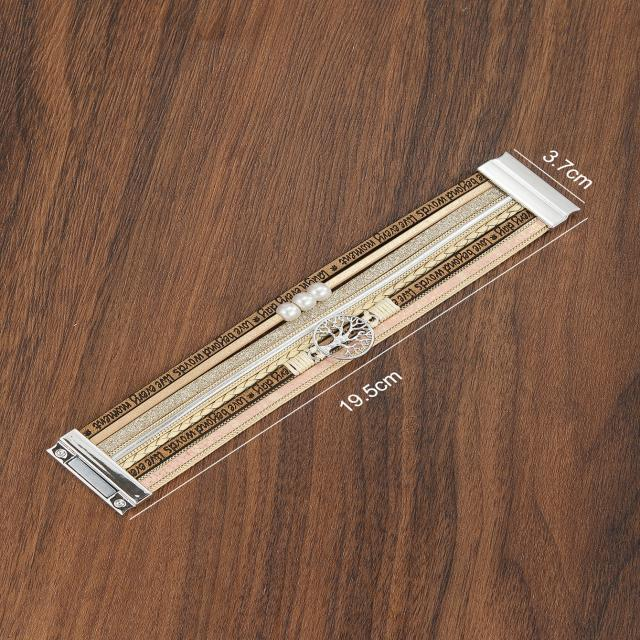bracelet: (21, 88, 632, 548)
